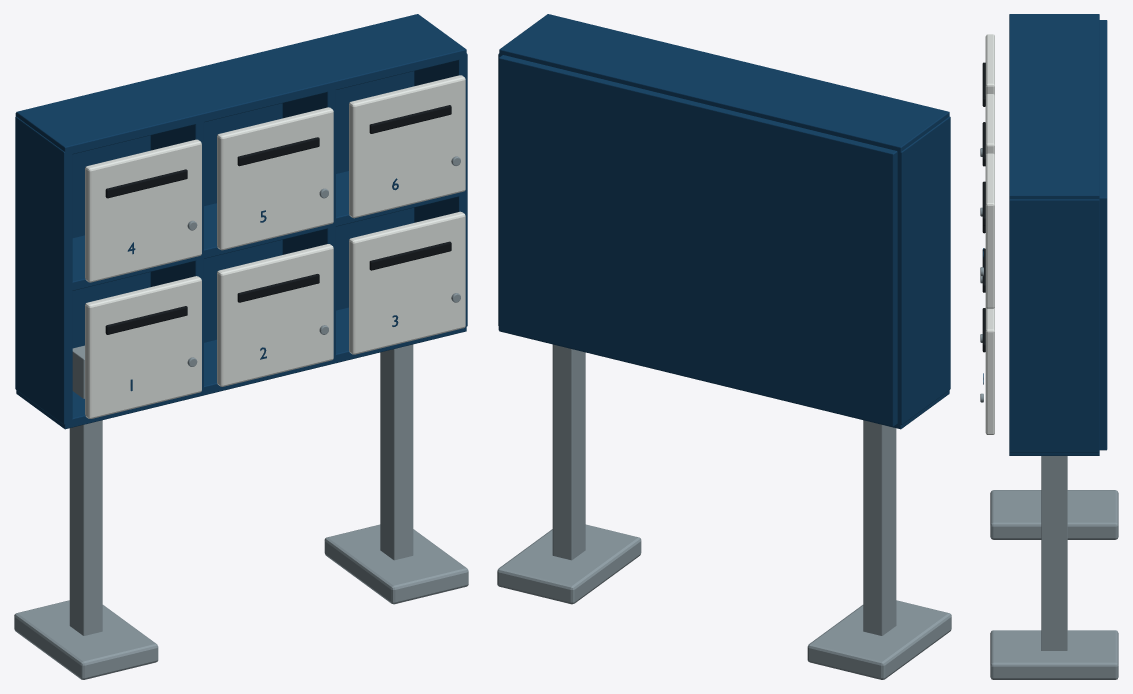
3 renders of one model, left to right at view 1: azimuth 30°, elevation 25°; view 2: azimuth 150°, elevation 25°; view 3: azimuth 270°, elevation 25°, orthographic. The views are drawn at different scales.
Parts seen in each view (by area): view 1: BODY_Shelf, BODY_Divider.001, DOOR_Panel, DOOR_Panel.002, DOOR_Panel.001, DOOR_Panel.005, DOOR_Panel.004, DOOR_Panel.003, BODY_Back, STAND_Post, STAND_Post.001, FOOT (+12 smaller); view 2: BODY_Back, BODY_Shelf, BODY_Divider.001, STAND_Post.001, STAND_Post, FOOT, FOOT.001, BODY_Shelf.001; view 3: BODY_Divider, BODY_Shelf, FOOT.001, STAND_Post.001, FOOT, BODY_Back, DOOR_Panel.005, DOOR_Panel.002, DOOR_Panel.004, DOOR_Panel.003, BODY_Shelf.001.
Part boxes in pixels (<box>): BODY_Shelf: <box>16,14,466,154</box>; BODY_Divider.001: <box>15,116,72,424</box>; DOOR_Panel: <box>85,276,201,418</box>; DOOR_Panel.002: <box>349,211,465,354</box>; DOOR_Panel.001: <box>217,244,333,386</box>; DOOR_Panel.005: <box>349,75,465,218</box>; DOOR_Panel.004: <box>217,107,333,250</box>; DOOR_Panel.003: <box>85,139,201,282</box>; BODY_Back: <box>15,71,414,348</box>; STAND_Post: <box>69,345,102,635</box>; STAND_Post.001: <box>380,344,413,560</box>; FOOT: <box>14,600,158,679</box>; BODY_Back: <box>498,55,897,426</box>; BODY_Shelf: <box>499,14,949,152</box>; BODY_Divider.001: <box>897,116,950,424</box>; STAND_Post.001: <box>552,344,585,560</box>; STAND_Post: <box>863,420,896,635</box>; FOOT: <box>807,600,951,679</box>; FOOT.001: <box>497,524,641,604</box>; BODY_Shelf.001: <box>499,331,949,429</box>; BODY_Divider: <box>1009,199,1099,452</box>; BODY_Shelf: <box>1009,14,1099,199</box>; FOOT.001: <box>990,630,1118,679</box>; STAND_Post.001: <box>1041,456,1067,650</box>; FOOT: <box>990,490,1118,539</box>; BODY_Back: <box>1099,20,1107,450</box>; DOOR_Panel.005: <box>985,153,994,308</box>; DOOR_Panel.002: <box>985,307,994,434</box>; DOOR_Panel.004: <box>985,94,994,154</box>; DOOR_Panel.003: <box>985,34,994,95</box>; BODY_Shelf.001: <box>1009,452,1099,455</box>.
Bounding box in the file's own units: 1.15 × 1.43 × 0.3665.
